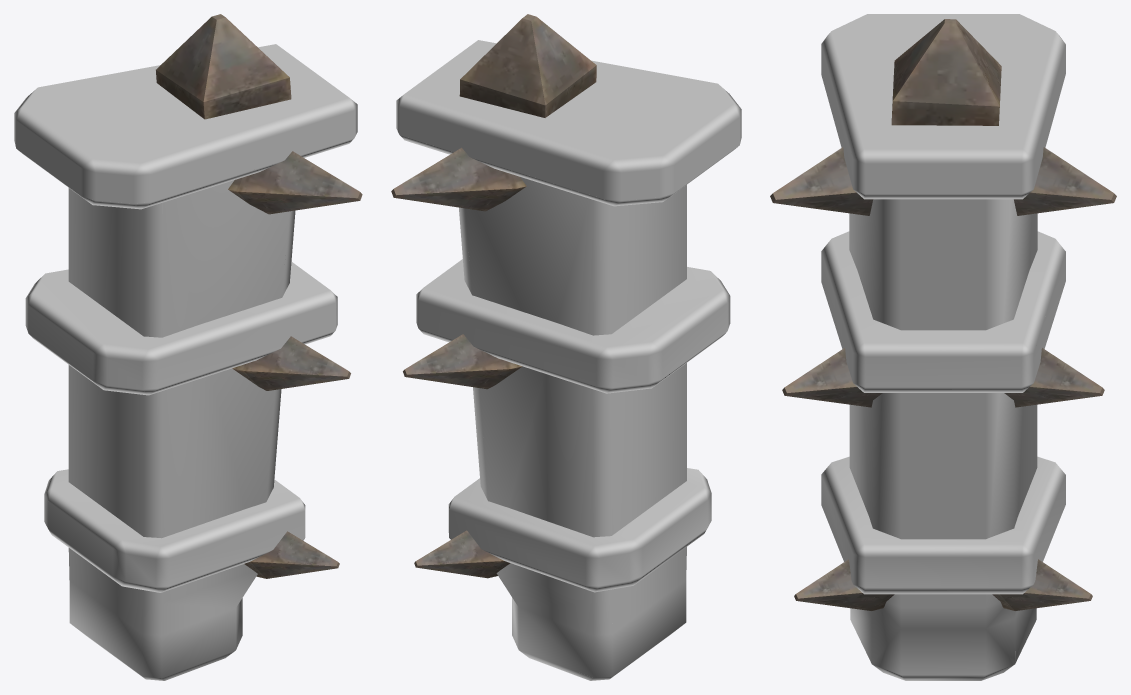
3 views of the same model, side by side, from view 1: azimuth 30°, elevation 25°; view 2: azimuth 150°, elevation 25°; view 3: azimuth 270°, elevation 25° (orthographic). The views are drawn at different scales.
Visible parts, largest first — view 1: SM_DR_MetalConnector_LOD0; view 2: SM_DR_MetalConnector_LOD0; view 3: SM_DR_MetalConnector_LOD0.
Boxes of the visible parts, <box> form: SM_DR_MetalConnector_LOD0: <box>14,14,362,680</box>; SM_DR_MetalConnector_LOD0: <box>391,14,741,680</box>; SM_DR_MetalConnector_LOD0: <box>770,14,1116,680</box>.
Bounding box in the file's own units: 2.09 × 4.48 × 2.12.
